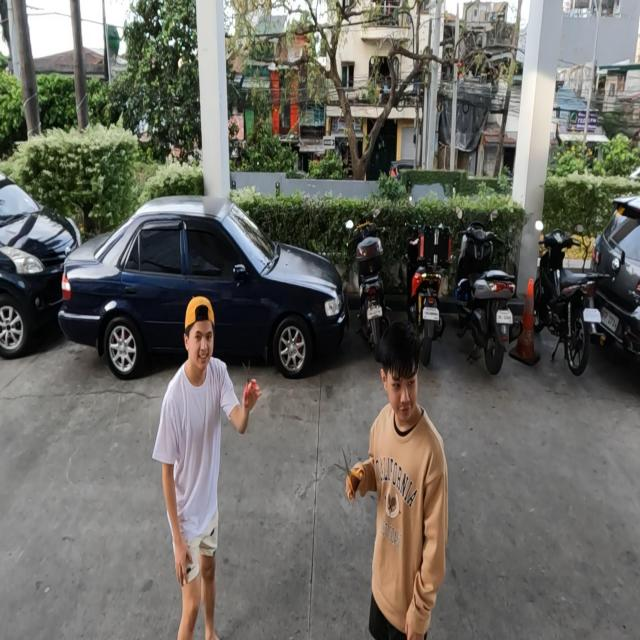scissor: (334, 447, 366, 503), (242, 357, 262, 406)
